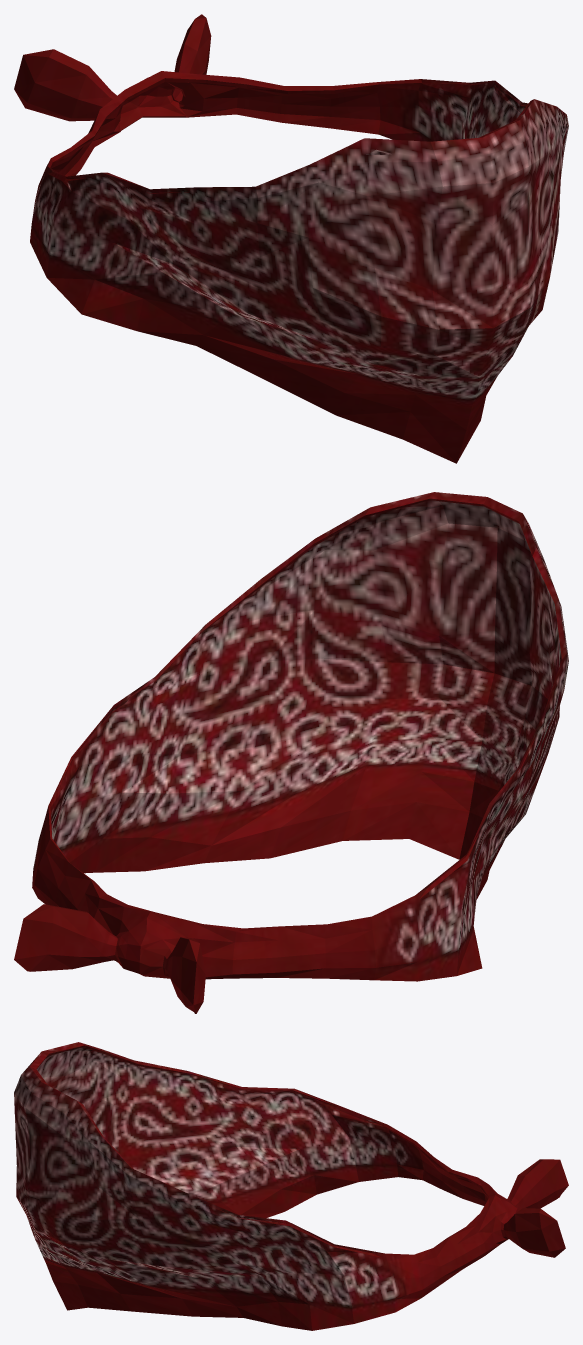
Rendered from mhw_culturalibre_bandana_mask.glb.
3 views of the same model, one above another, from view 1: azimuth 30°, elevation 25°; view 2: azimuth 150°, elevation 25°; view 3: azimuth 270°, elevation 25° (orthographic). The views are drawn at different scales.
Visible parts, largest first — view 1: mhw_culturalibre_bandana_mask; view 2: mhw_culturalibre_bandana_mask; view 3: mhw_culturalibre_bandana_mask.
Part boxes in pixels (x1,y1,x2,y2): mhw_culturalibre_bandana_mask: (14,14,568,463); mhw_culturalibre_bandana_mask: (14,492,568,1013); mhw_culturalibre_bandana_mask: (14,1042,568,1330).
Size of the model in its own units: 0.1511 by 0.1212 by 0.25.
1 material, 1 textured.
